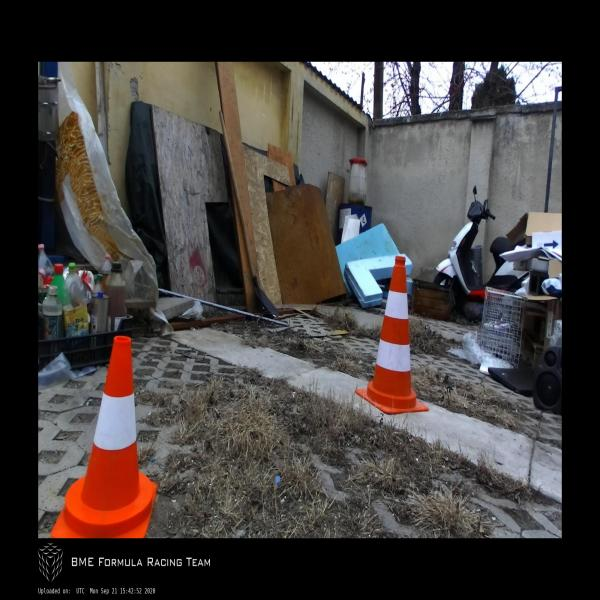large_orange_cone: (355, 257, 429, 414)
orange_cone: (49, 335, 157, 538)
